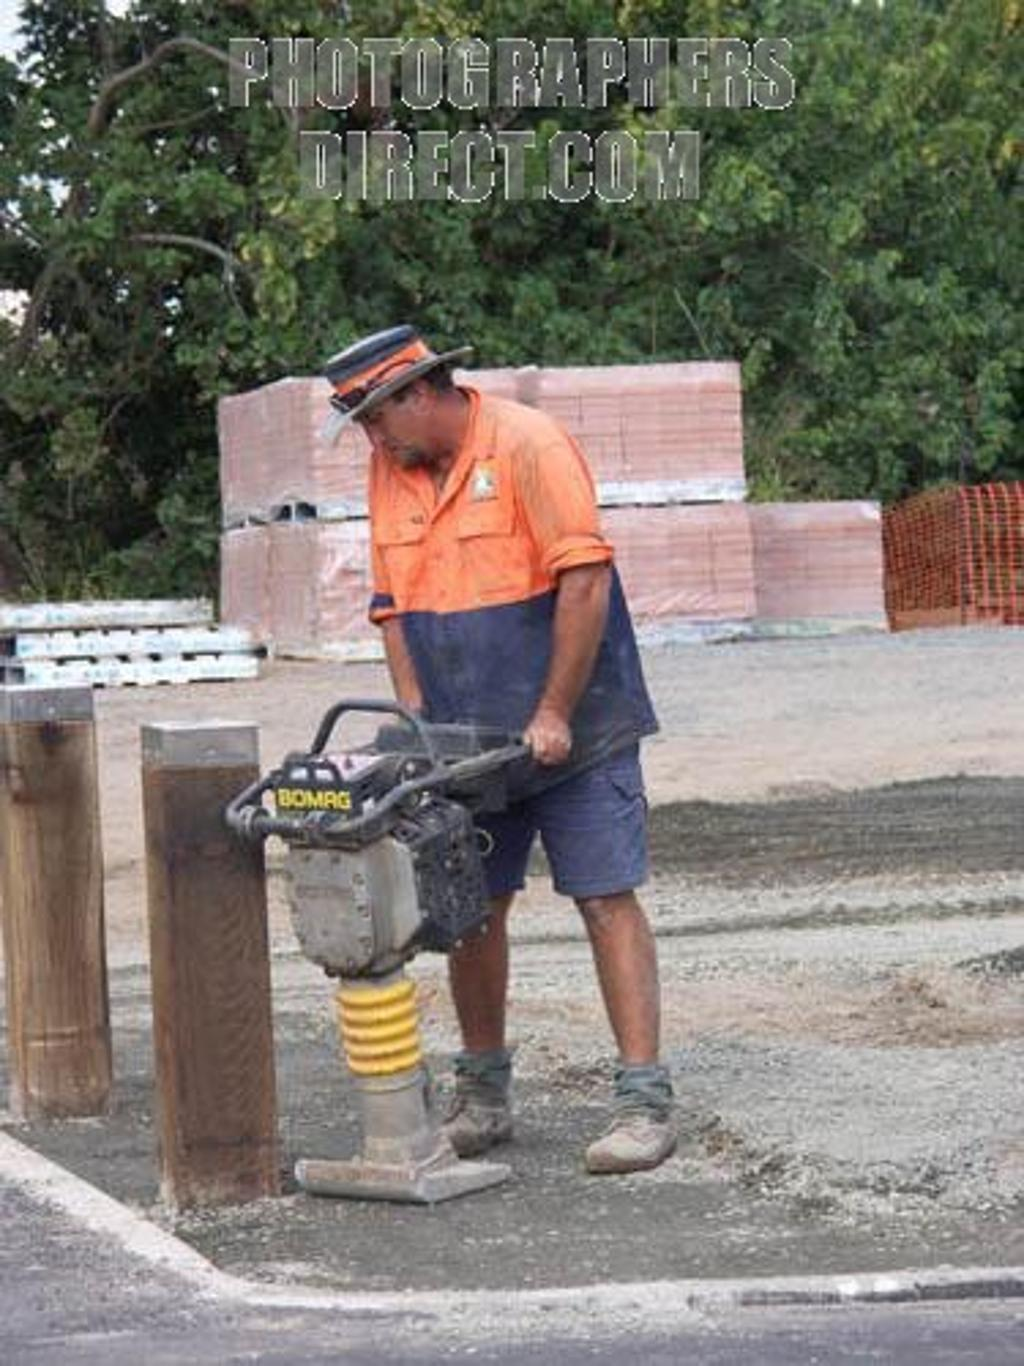face: (352, 357, 421, 466)
